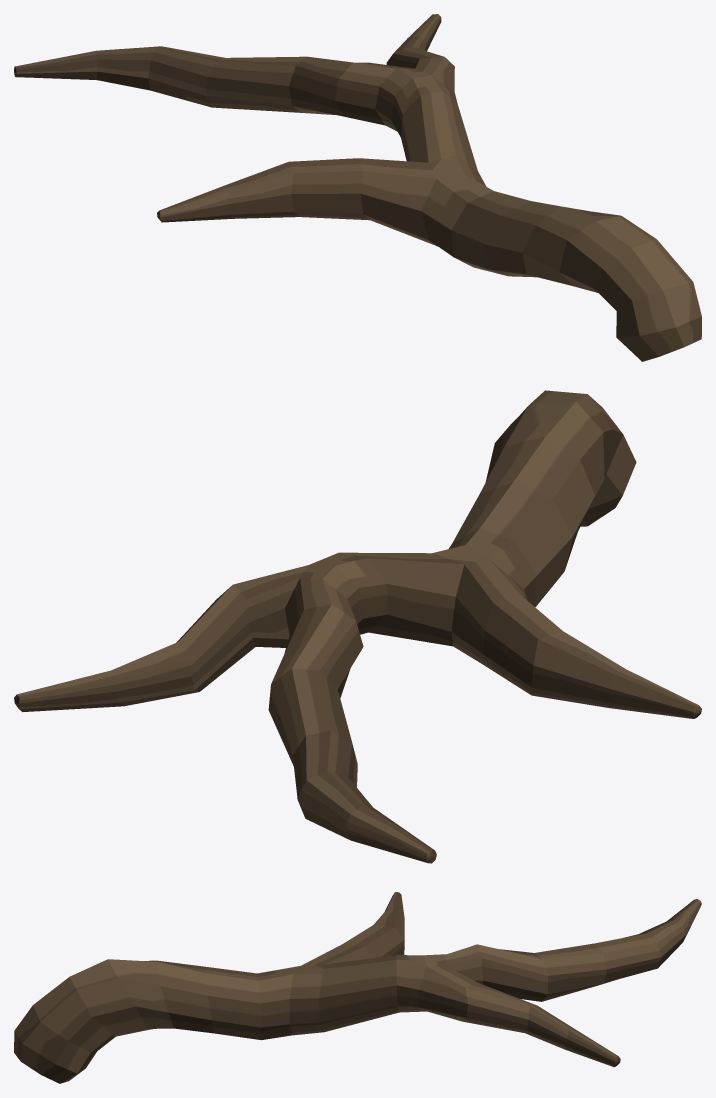
Rendered from enchanted_SM_Env_Roots_Small_04.gltf.
The picture shows the model from 3 angles, top to bottom: view 1: azimuth 30°, elevation 25°; view 2: azimuth 150°, elevation 25°; view 3: azimuth 270°, elevation 25°; orthographic projection. The views are drawn at different scales.
Visible parts, largest first — view 1: SM_Env_Roots_Small_04; view 2: SM_Env_Roots_Small_04; view 3: SM_Env_Roots_Small_04.
Part boxes in pixels (x1,y1,x2,y2): SM_Env_Roots_Small_04: (14,14,701,361); SM_Env_Roots_Small_04: (14,390,701,863); SM_Env_Roots_Small_04: (14,892,701,1083).
Bounding box in the file's own units: 0.859 × 0.2616 × 1.46.
Materials: 1 (1 with a texture image).
